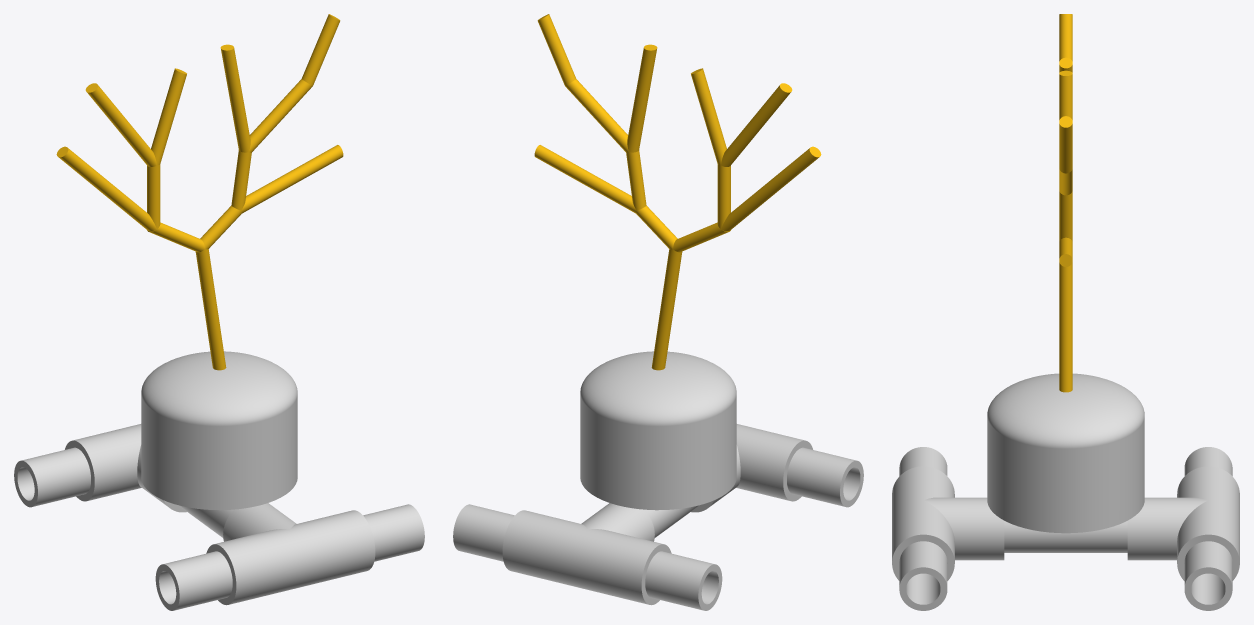
File: coral_sample.glb
The picture shows the model from 3 angles, left to right: view 1: azimuth 30°, elevation 25°; view 2: azimuth 150°, elevation 25°; view 3: azimuth 270°, elevation 25°; orthographic projection.
Parts seen in each view (by area): view 1: 2_inch_PVC_Cap, 1/2_inch_PVC_T (×2), Coral, 1/2_in_PVC_Pipe (×4); view 2: 2_inch_PVC_Cap, 1/2_inch_PVC_T (×2), Coral, 1/2_in_PVC_Pipe (×4); view 3: 2_inch_PVC_Cap, 1/2_inch_PVC_T (×2), 1/2_in_PVC_Pipe (×5), Coral.
Boxes of the visible parts, left/top/right/bottom form: 2_inch_PVC_Cap: left=141, top=351, right=297, bottom=510; 1/2_inch_PVC_T (×2): left=65, top=424, right=375, bottom=605; Coral: left=56, top=14, right=343, bottom=370; 1/2_in_PVC_Pipe (×4): left=14, top=447, right=424, bottom=610; 2_inch_PVC_Cap: left=580, top=351, right=736, bottom=510; 1/2_inch_PVC_T (×2): left=502, top=424, right=812, bottom=605; Coral: left=534, top=14, right=821, bottom=370; 1/2_in_PVC_Pipe (×4): left=453, top=447, right=863, bottom=610; 2_inch_PVC_Cap: left=987, top=373, right=1144, bottom=533; 1/2_inch_PVC_T (×2): left=892, top=466, right=1239, bottom=580; 1/2_in_PVC_Pipe (×5): left=899, top=447, right=1232, bottom=610; Coral: left=1059, top=14, right=1072, bottom=392.
Bounding box in the file's own units: 0.1464 × 0.2423 × 0.1542.
